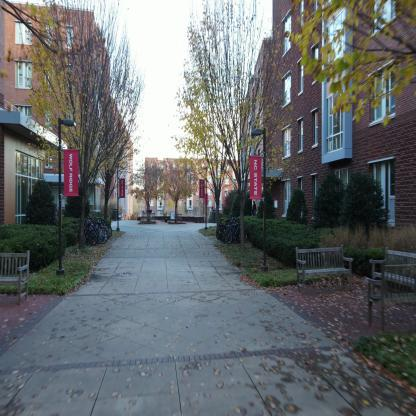Wolf Ridge: (255, 38, 415, 291), (0, 28, 127, 313), (148, 138, 235, 216)
